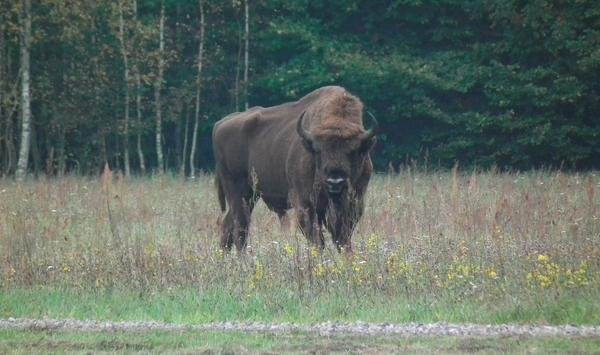zubr: (189, 81, 400, 261)
